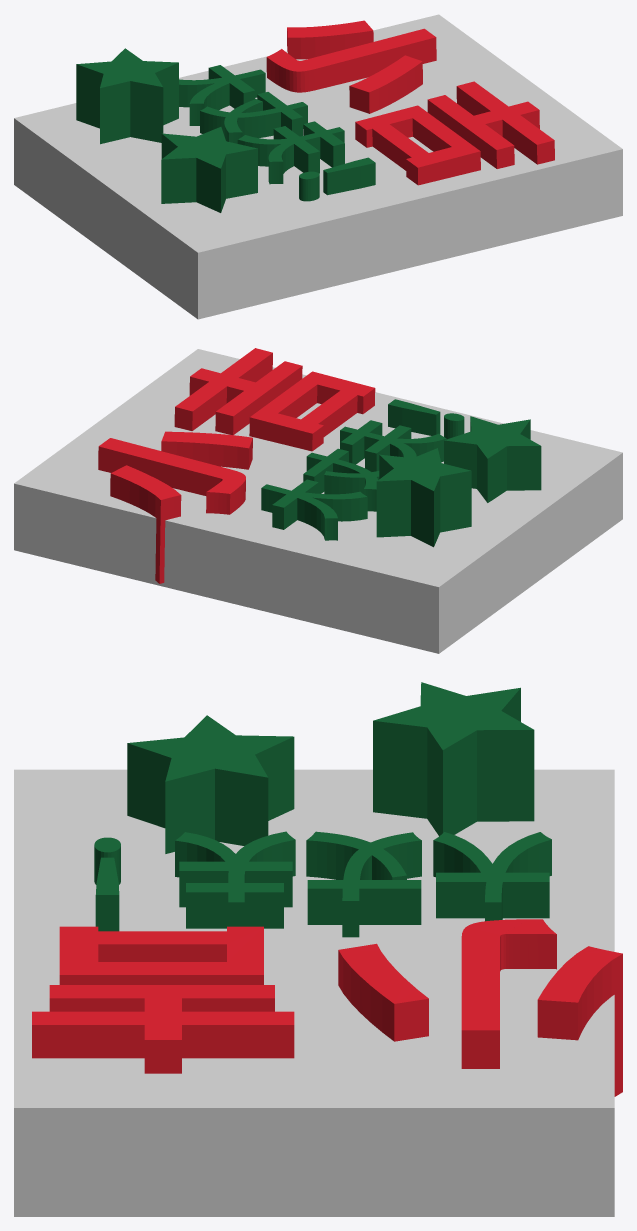
The model's file is tinker.obj.
3 renders of one model, top to bottom at view 1: azimuth 30°, elevation 25°; view 2: azimuth 150°, elevation 25°; view 3: azimuth 270°, elevation 25°, orthographic. The views are drawn at different scales.
Visible parts, largest first — view 1: group_0_16448250, group_0_1206582, group_0_15277357; view 2: group_0_16448250, group_0_1206582, group_0_15277357; view 3: group_0_16448250, group_0_1206582, group_0_15277357.
Part boxes in pixels (x1,y1,x2,y2): group_0_16448250: [14, 14, 622, 319]; group_0_1206582: [76, 48, 375, 212]; group_0_15277357: [266, 20, 554, 185]; group_0_16448250: [14, 349, 622, 653]; group_0_1206582: [261, 399, 541, 547]; group_0_15277357: [98, 348, 375, 583]; group_0_16448250: [14, 769, 614, 1216]; group_0_1206582: [94, 682, 551, 937]; group_0_15277357: [32, 919, 622, 1096].
Bounding box in the file's own units: 20 × 6 × 15.21.
